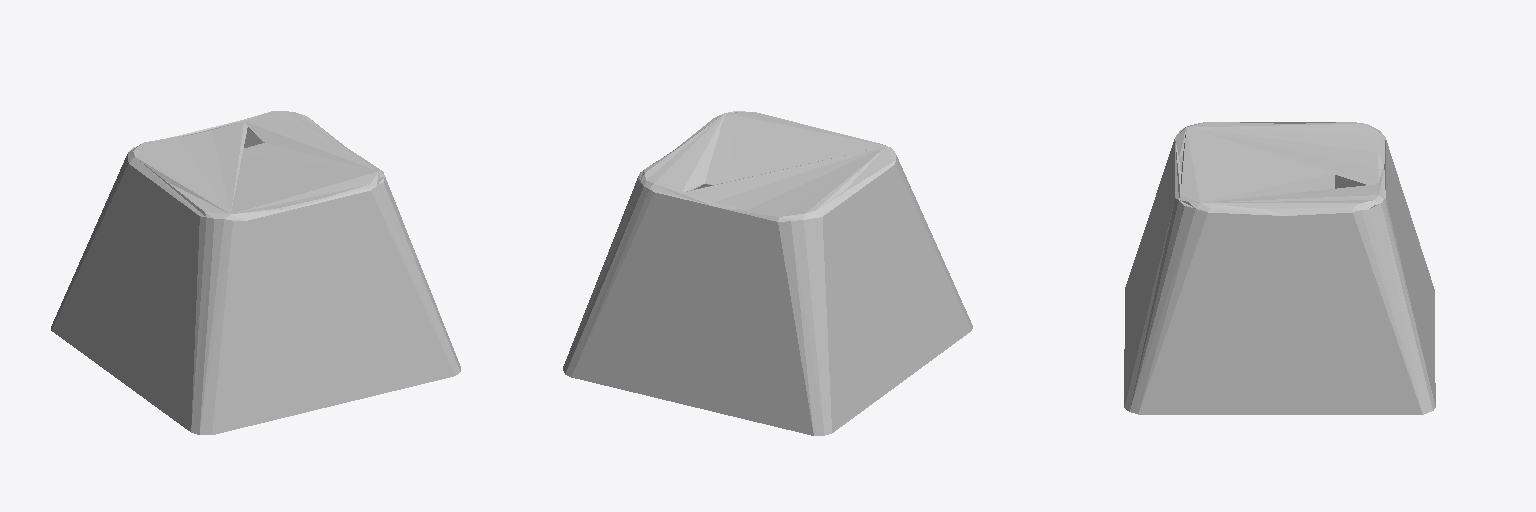
File: tr909-key-intermediate.obj
3 views of the same model, side by side, from view 1: azimuth 30°, elevation 25°; view 2: azimuth 150°, elevation 25°; view 3: azimuth 270°, elevation 25° (orthographic).
Visible parts, largest first — view 1: Roland_TR-909.stl; view 2: Roland_TR-909.stl; view 3: Roland_TR-909.stl.
Boxes of the visible parts, box(x1,y1,x2,y2) form: Roland_TR-909.stl: box(51, 111, 460, 434); Roland_TR-909.stl: box(563, 111, 972, 435); Roland_TR-909.stl: box(1124, 122, 1435, 414).
Bounding box in the file's own units: 1.9 × 1.26 × 1.9.